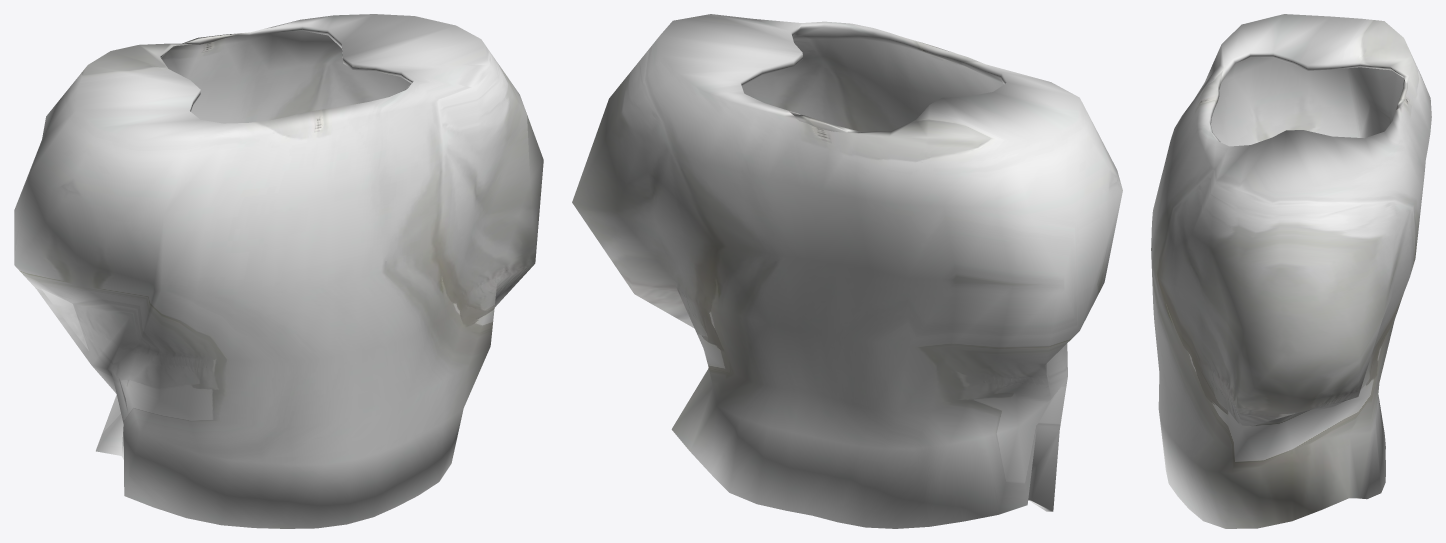
3 views of the same model, side by side, from view 1: azimuth 30°, elevation 25°; view 2: azimuth 150°, elevation 25°; view 3: azimuth 270°, elevation 25° (orthographic). The views are drawn at different scales.
Parts seen in each view (by area): view 1: garment; view 2: garment; view 3: garment.
Part boxes in pixels (bbox=[...]): garment: bbox=[14, 14, 543, 528]; garment: bbox=[572, 14, 1122, 528]; garment: bbox=[1151, 14, 1431, 528].
Size of the model in its own units: 0.5791 by 0.4629 by 0.3063.
Materials: 1 (1 with a texture image).
